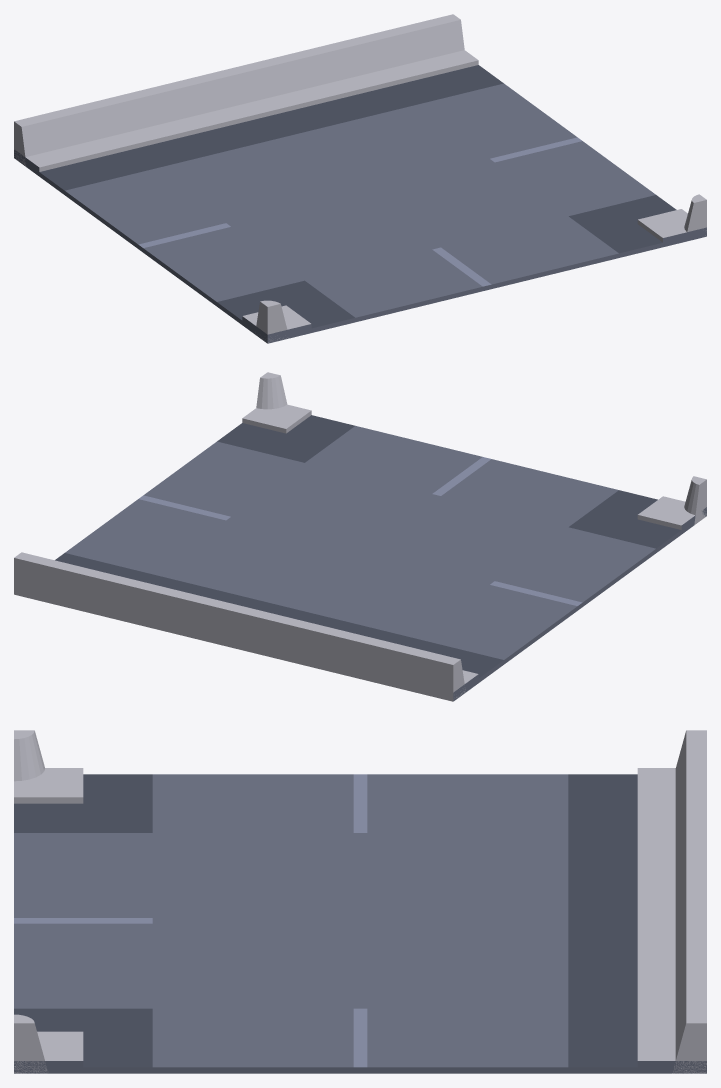
File: road_intersection.glb
3 renders of one model, top to bottom at view 1: azimuth 30°, elevation 25°; view 2: azimuth 150°, elevation 25°; view 3: azimuth 270°, elevation 25°, orthographic. The views are drawn at different scales.
Parts seen in each view (by area): view 1: road_intersection_c03685, road_intersection_3b6483, road_intersection_2314e3, road_intersection_ddb54e, road_intersection_a01b32; view 2: road_intersection_c03685, road_intersection_3b6483, road_intersection_2314e3, road_intersection_ddb54e, road_intersection_a01b32; view 3: road_intersection_c03685, road_intersection_2314e3, road_intersection_ddb54e, road_intersection_3b6483, road_intersection_a01b32.
Part boxes in pixels (x1=…): road_intersection_c03685: x1=14, y1=83, x2=706, y2=343; road_intersection_3b6483: x1=14, y1=14, x2=706, y2=343; road_intersection_2314e3: x1=39, y1=65, x2=676, y2=328; road_intersection_ddb54e: x1=26, y1=50, x2=687, y2=329; road_intersection_a01b32: x1=138, y1=137, x2=581, y2=286; road_intersection_c03685: x1=65, y1=426, x2=706, y2=701; road_intersection_3b6483: x1=14, y1=372, x2=706, y2=700; road_intersection_2314e3: x1=55, y1=415, x2=681, y2=678; road_intersection_ddb54e: x1=14, y1=404, x2=694, y2=701; road_intersection_a01b32: x1=139, y1=457, x2=582, y2=605; road_intersection_c03685: x1=14, y1=774, x2=706, y2=1073; road_intersection_2314e3: x1=14, y1=774, x2=637, y2=1067; road_intersection_ddb54e: x1=14, y1=768, x2=675, y2=1060; road_intersection_3b6483: x1=14, y1=730, x2=706, y2=1073; road_intersection_a01b32: x1=14, y1=774, x2=367, y2=1067.
Size of the model in its own units: 1 by 0.08 by 1.
